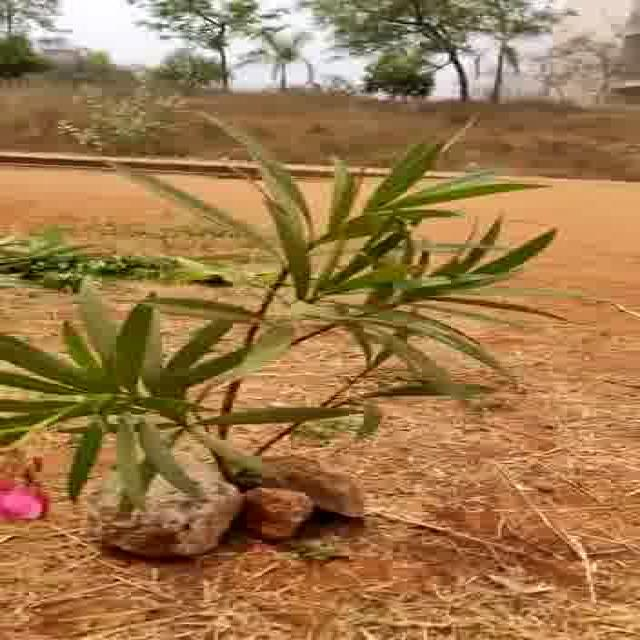Oleander: (0, 181, 587, 477)
